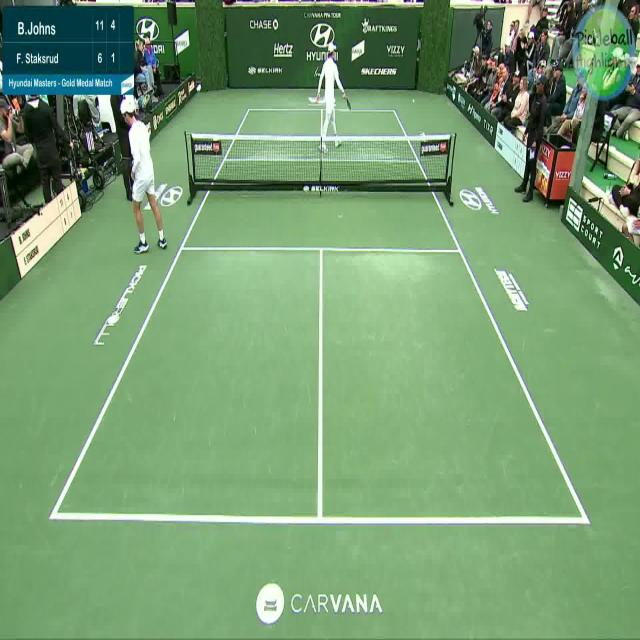Court: (49, 107, 589, 526)
ball: (408, 91, 418, 108)
